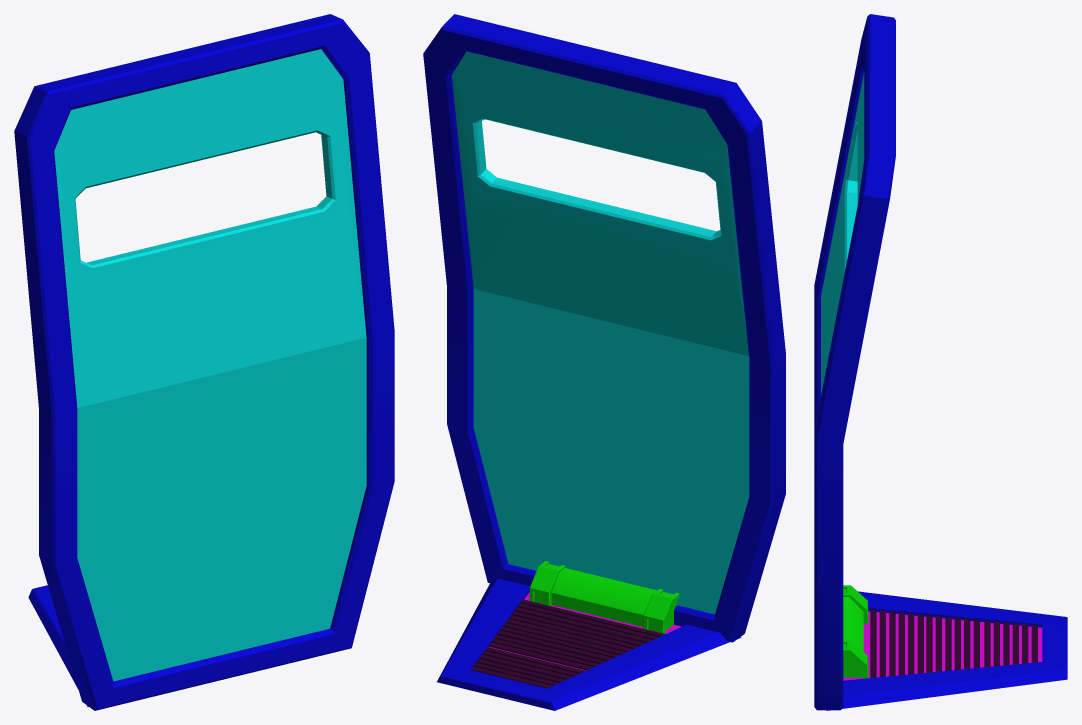
The model's file is STATIC_Barricade_01.fbx.
3 renders of one model, left to right at view 1: azimuth 30°, elevation 25°; view 2: azimuth 150°, elevation 25°; view 3: azimuth 270°, elevation 25°, orthographic. The views are drawn at different scales.
Parts seen in each view (by area): view 1: STATIC_Barricade_01; view 2: STATIC_Barricade_01; view 3: STATIC_Barricade_01.
Boxes of the visible parts, x1,y1,x2,y2 form: STATIC_Barricade_01: [14, 14, 394, 710]; STATIC_Barricade_01: [423, 14, 785, 710]; STATIC_Barricade_01: [814, 14, 1067, 710].
Bounding box in the file's own units: 12.86 × 21.62 × 8.72.
